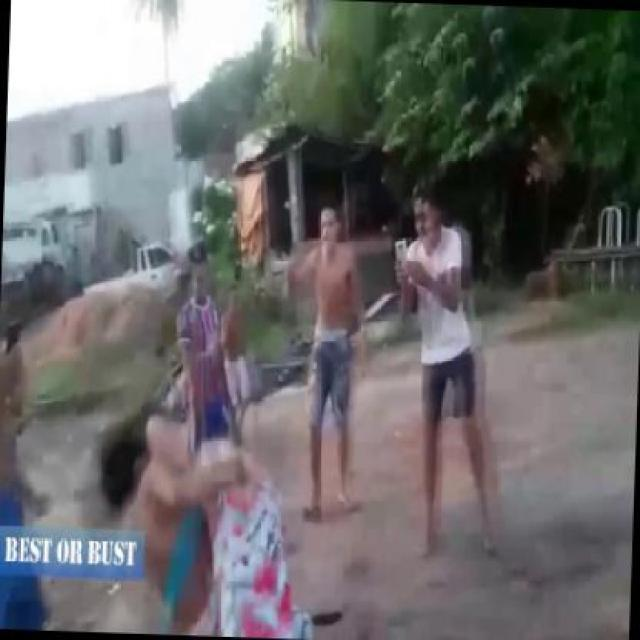non-fight: (383, 186, 503, 560), (278, 205, 376, 518)
